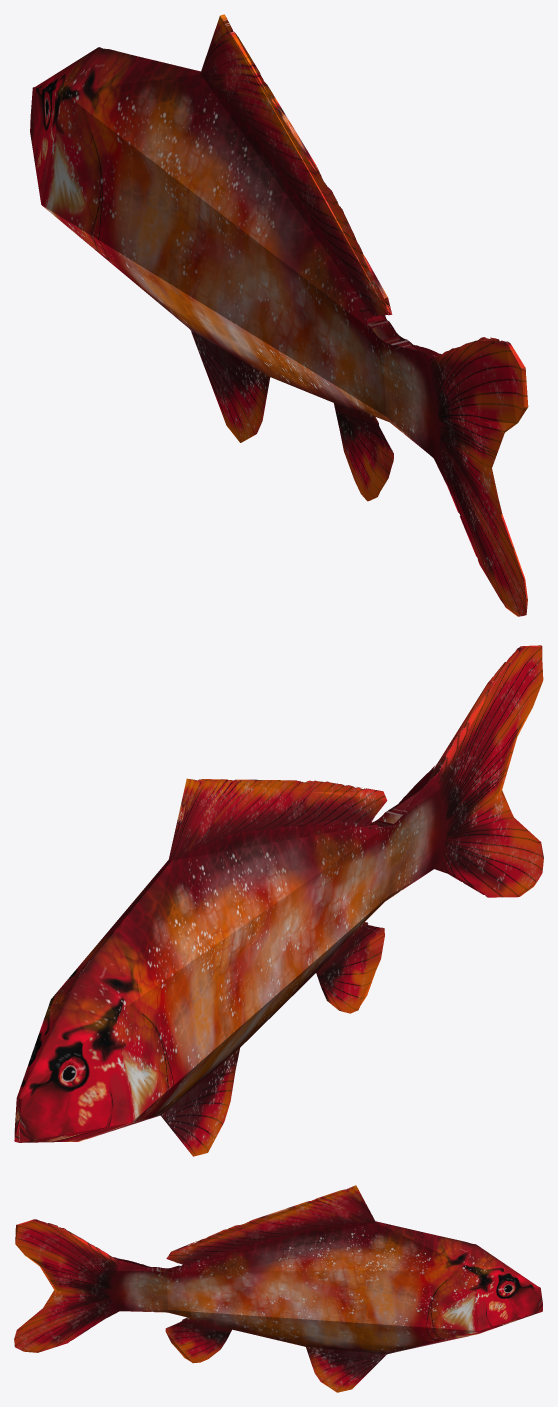
Rendered from Fish Textured 1.fbx.
3 renders of one model, top to bottom at view 1: azimuth 30°, elevation 25°; view 2: azimuth 150°, elevation 25°; view 3: azimuth 270°, elevation 25°, orthographic. The views are drawn at different scales.
Visible parts, largest first — view 1: polySurface5, polySurface6; view 2: polySurface5, polySurface6; view 3: polySurface6, polySurface5.
Part boxes in pixels (left/top/right/bottom): polySurface5: left=30, top=15, right=527, bottom=616; polySurface6: left=35, top=14, right=528, bottom=616; polySurface5: left=16, top=645, right=543, bottom=1156; polySurface6: left=14, top=645, right=543, bottom=1156; polySurface6: left=14, top=1186, right=542, bottom=1389; polySurface5: left=14, top=1185, right=542, bottom=1392.
Size of the model in its own units: 2.92 by 10.24 by 23.77.
